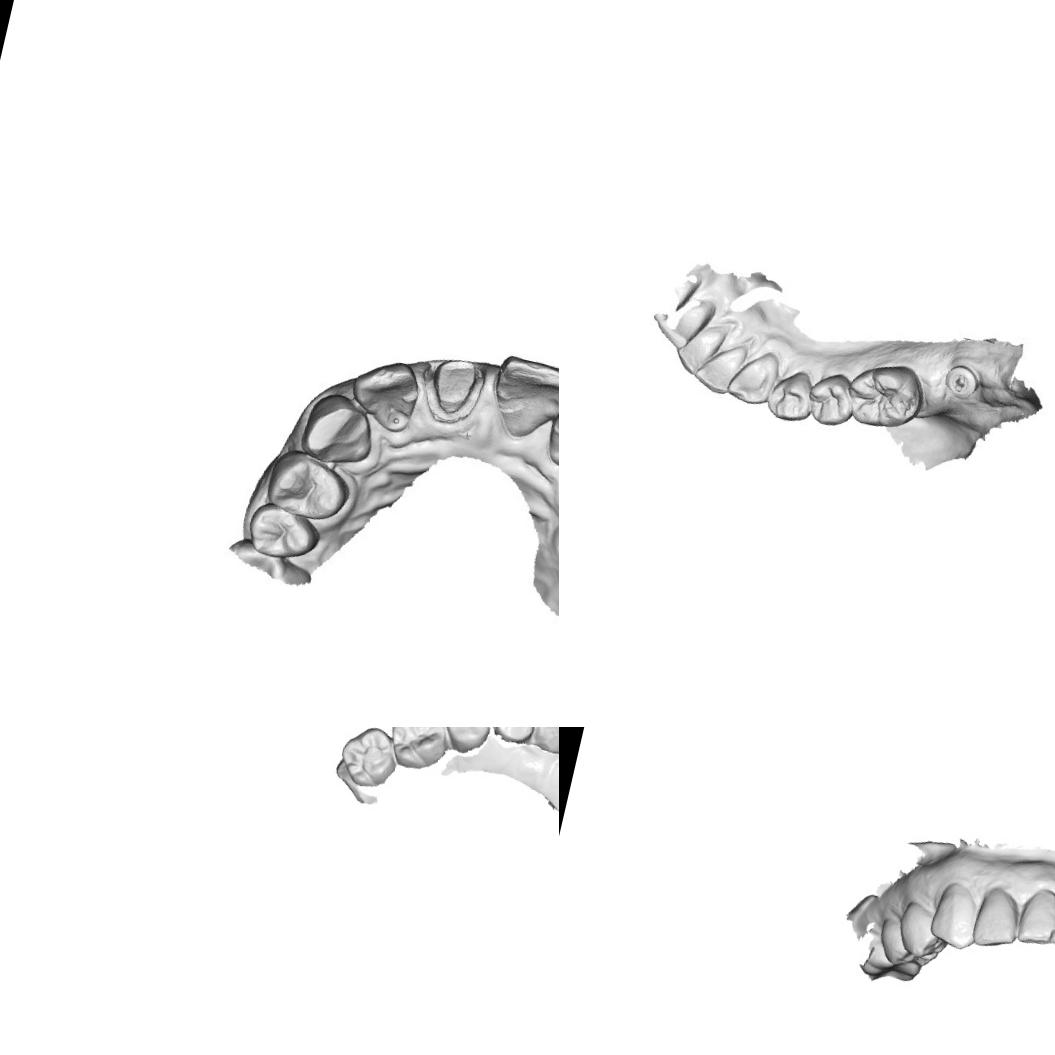canine: (296, 386, 381, 473), (926, 878, 990, 955), (724, 346, 780, 412), (528, 727, 559, 760)
crown: (412, 346, 494, 433)
implant_minus: (942, 363, 984, 402)
incisor: (480, 348, 559, 450), (342, 355, 428, 444), (968, 884, 1026, 955), (653, 293, 718, 356), (690, 337, 746, 398), (671, 318, 725, 381), (1013, 881, 1055, 952), (542, 394, 559, 484)
molar: (840, 354, 930, 437), (333, 727, 406, 794), (382, 727, 456, 775)
premolar: (264, 448, 359, 529), (240, 501, 324, 575), (891, 900, 953, 963), (803, 367, 860, 430), (765, 366, 819, 426), (435, 727, 498, 758), (876, 916, 914, 964), (482, 727, 542, 746)
